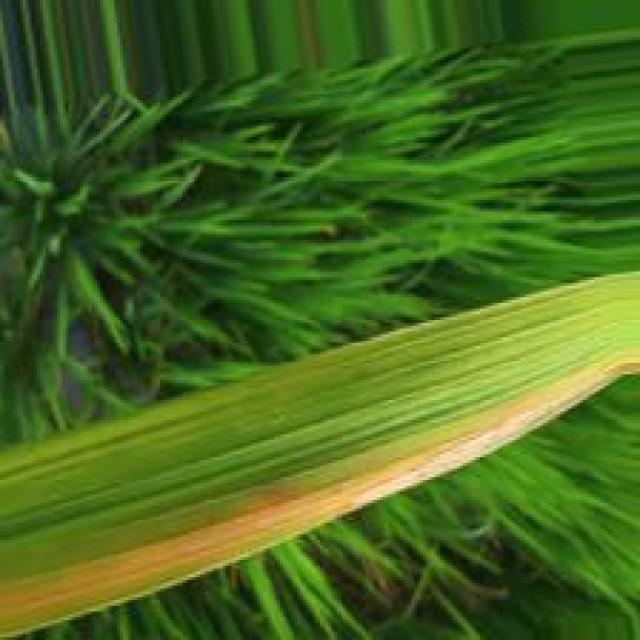Leaf_Scald: (326, 362, 640, 525)
